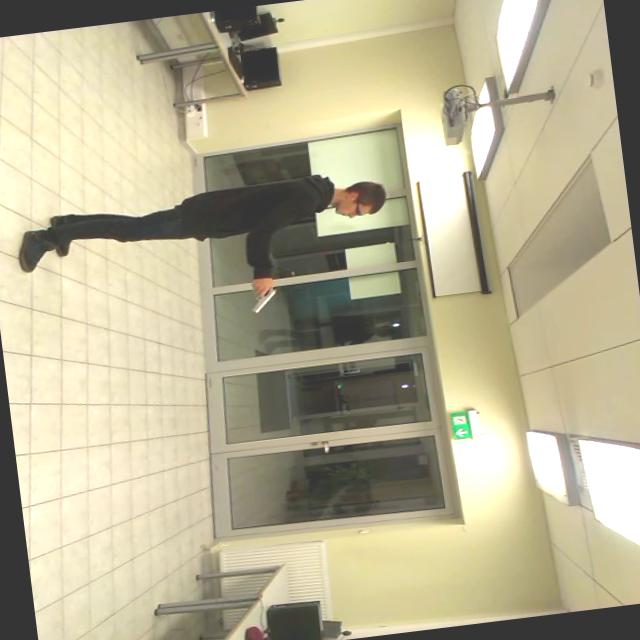handgun: (238, 282, 284, 320)
